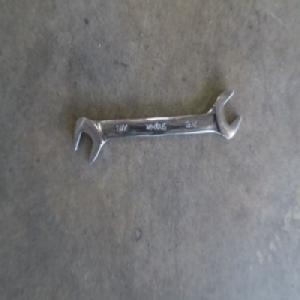Wrench: (79, 92, 233, 164)
